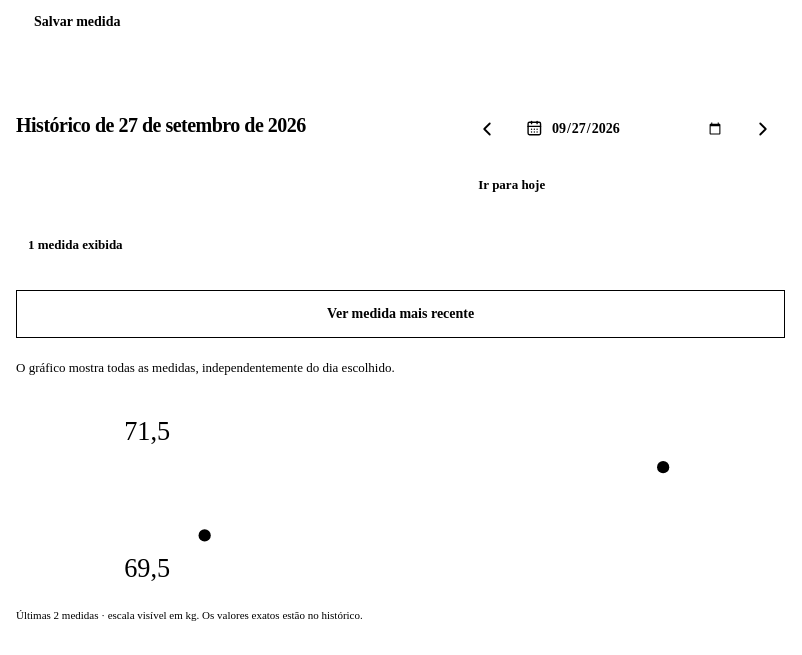
Test: atalho experimental para a medida mais recente › vai ao dia mais recente, foca o seletor e registra o uso
(page scrolled)
Click the button "Ver medida mais recente" at (401, 314), box top-left (16, 290), bottom-right (785, 338)
(page scrolled)
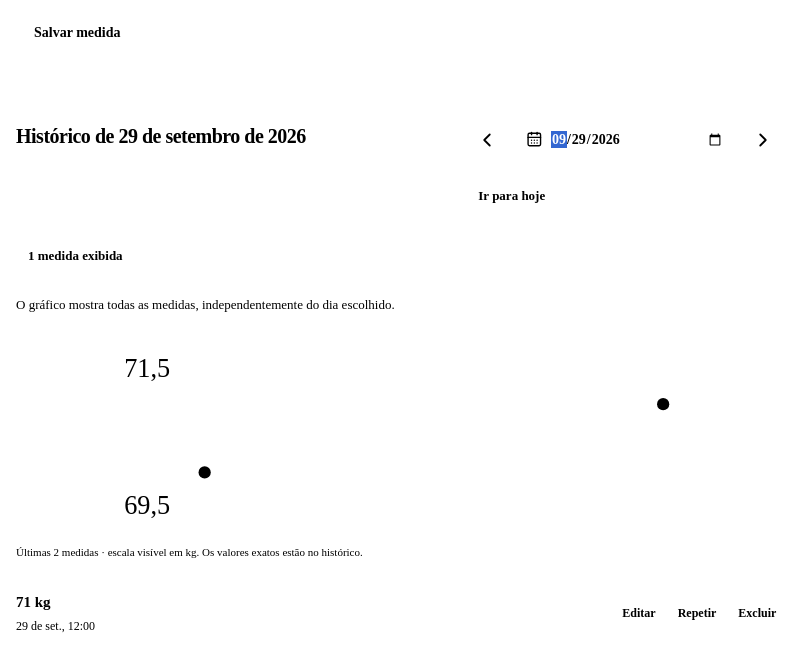
Now the text "71 kg" is shown, box top-left (16, 594), bottom-right (51, 610)
Now the date field named "Data do histórico de medidas" holds "2026-09-29", box top-left (550, 128), bottom-right (724, 151)
Now the button "Ver medida mais recente" is gone
